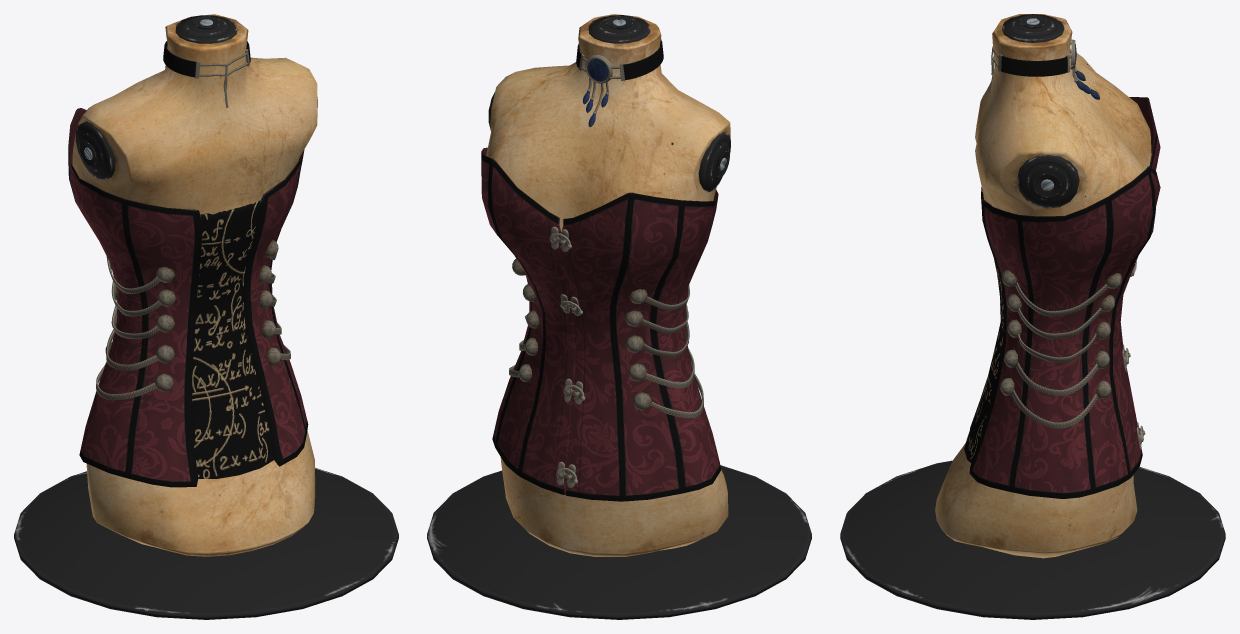
The model's file is Corset.gltf.
The picture shows the model from 3 angles, left to right: view 1: azimuth 30°, elevation 25°; view 2: azimuth 150°, elevation 25°; view 3: azimuth 270°, elevation 25°; orthographic projection.
Parts seen in each view (by area): view 1: Corset; view 2: Corset; view 3: Corset.
Part boxes in pixels (<box>): Corset: <box>14,14,398,619</box>; Corset: <box>427,14,811,619</box>; Corset: <box>840,14,1225,619</box>.
Bounding box in the file's own units: 1.95 × 2.89 × 1.95.
Materials: 1 (1 with a texture image).
